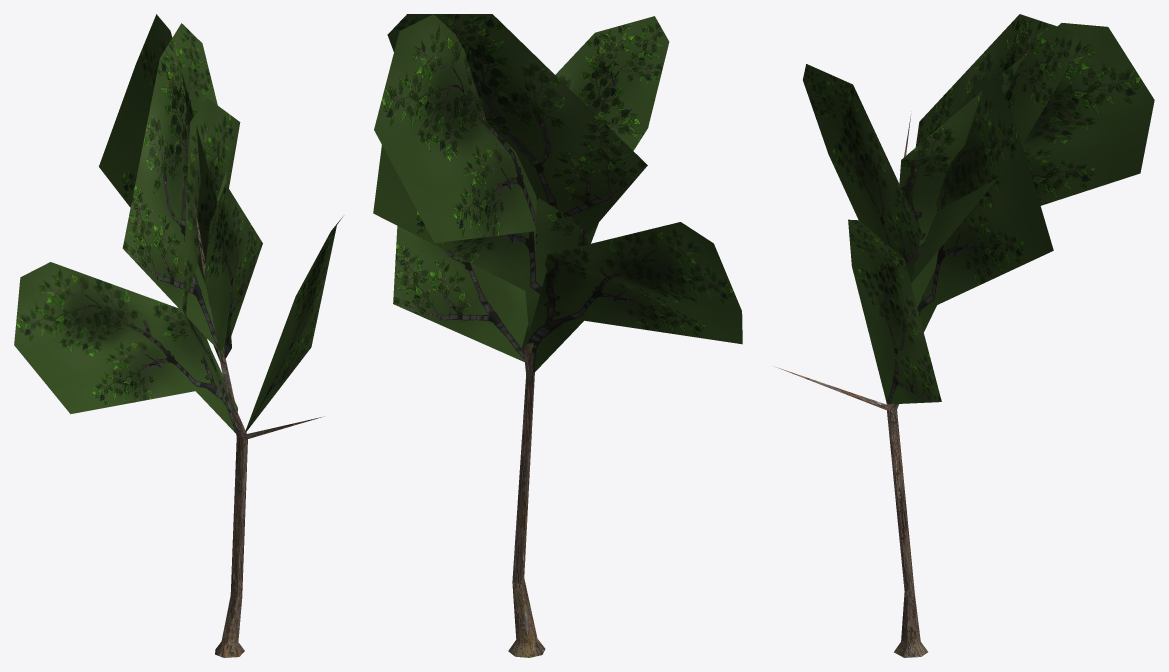
The model's file is tree_5_lod.fbx.
3 views of the same model, side by side, from view 1: azimuth 30°, elevation 25°; view 2: azimuth 150°, elevation 25°; view 3: azimuth 270°, elevation 25° (orthographic). The views are drawn at different scales.
Parts seen in each view (by area): view 1: Mesh Object; view 2: Mesh Object; view 3: Mesh Object.
Boxes of the visible parts, <box> form: Mesh Object: <box>14,14,342,657</box>; Mesh Object: <box>373,14,742,657</box>; Mesh Object: <box>776,14,1154,657</box>.
Bounding box in the file's own units: 4.33 × 7.84 × 4.3.
